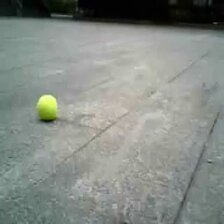tennis: (36, 95, 58, 119)
